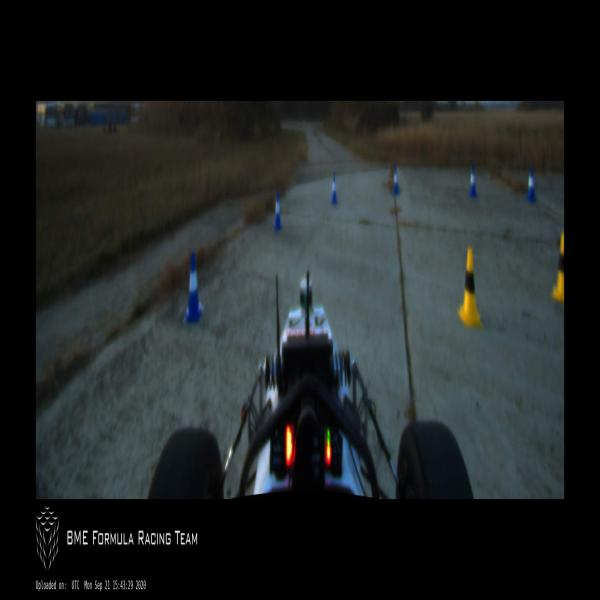blue_cone: (183, 252, 203, 324), (526, 164, 536, 202), (274, 192, 282, 231), (470, 164, 478, 199), (392, 163, 399, 195), (332, 174, 338, 204)
yellow_cone: (457, 249, 481, 325), (551, 232, 564, 305)
